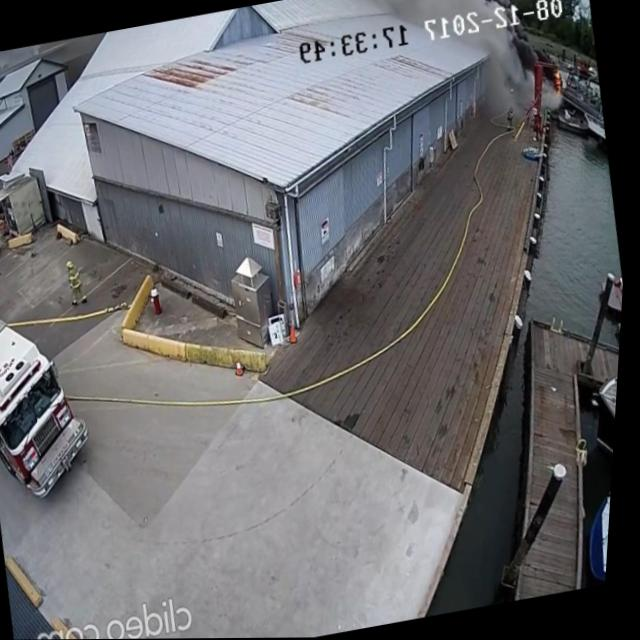fire: (551, 69, 567, 100)
